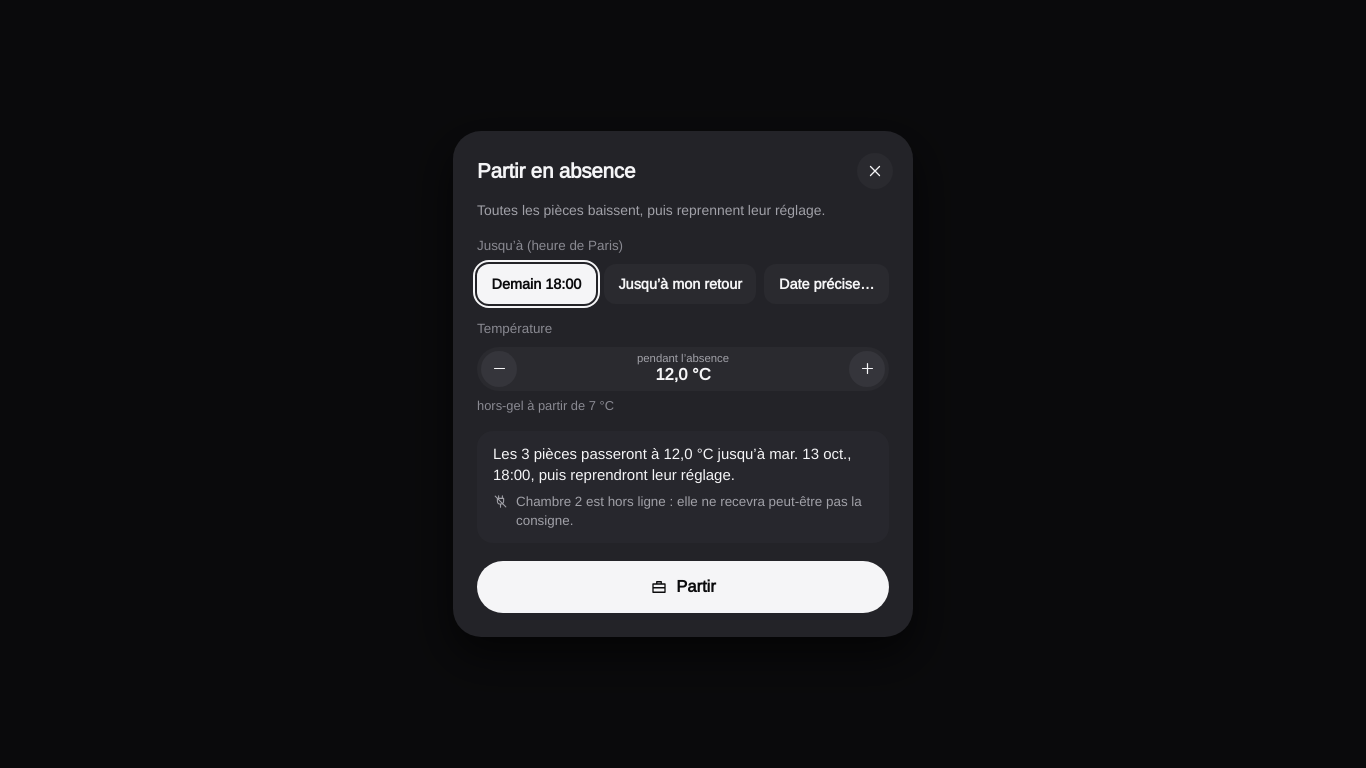
Test: AwaySheet send › a precise date in the past is refused, nothing is sent
The width and height of the screenshot is (1366, 768).
Click the button "Date précise…".
click(827, 284)  # box [764,264,889,304]
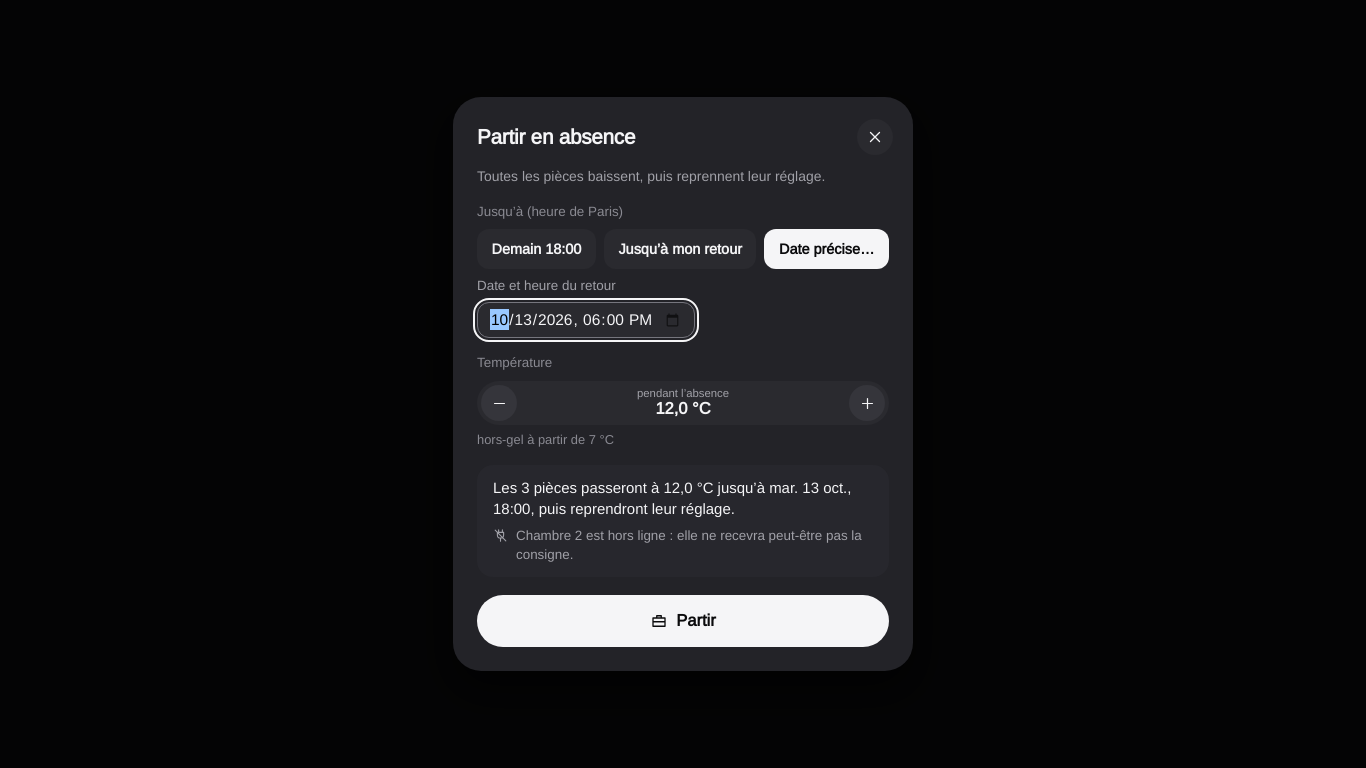
Replace the text in the field labelled "Date et heure du retour" with "2026-10-12T09:00" at x=586, y=320, box [477,302,694,338]
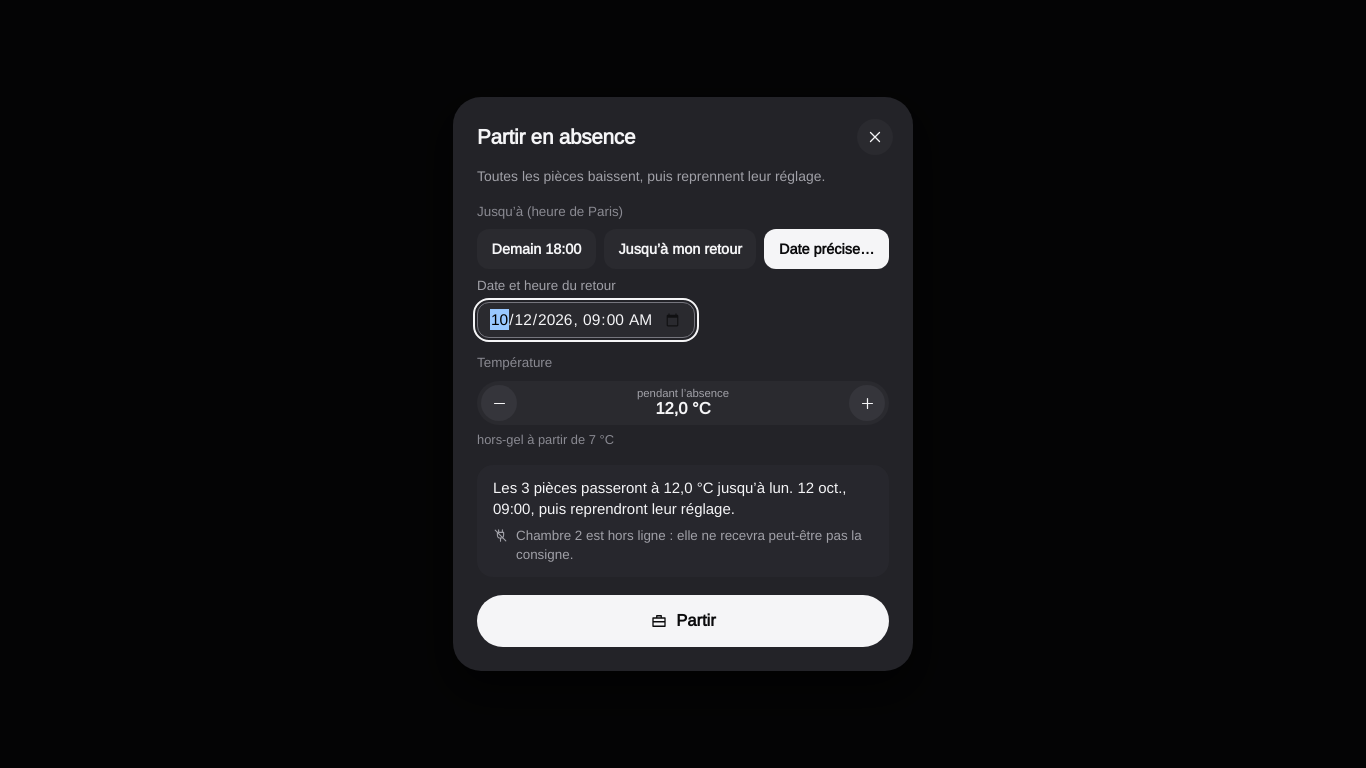
Click the button "Partir".
click(683, 621)  # box [477,595,889,647]
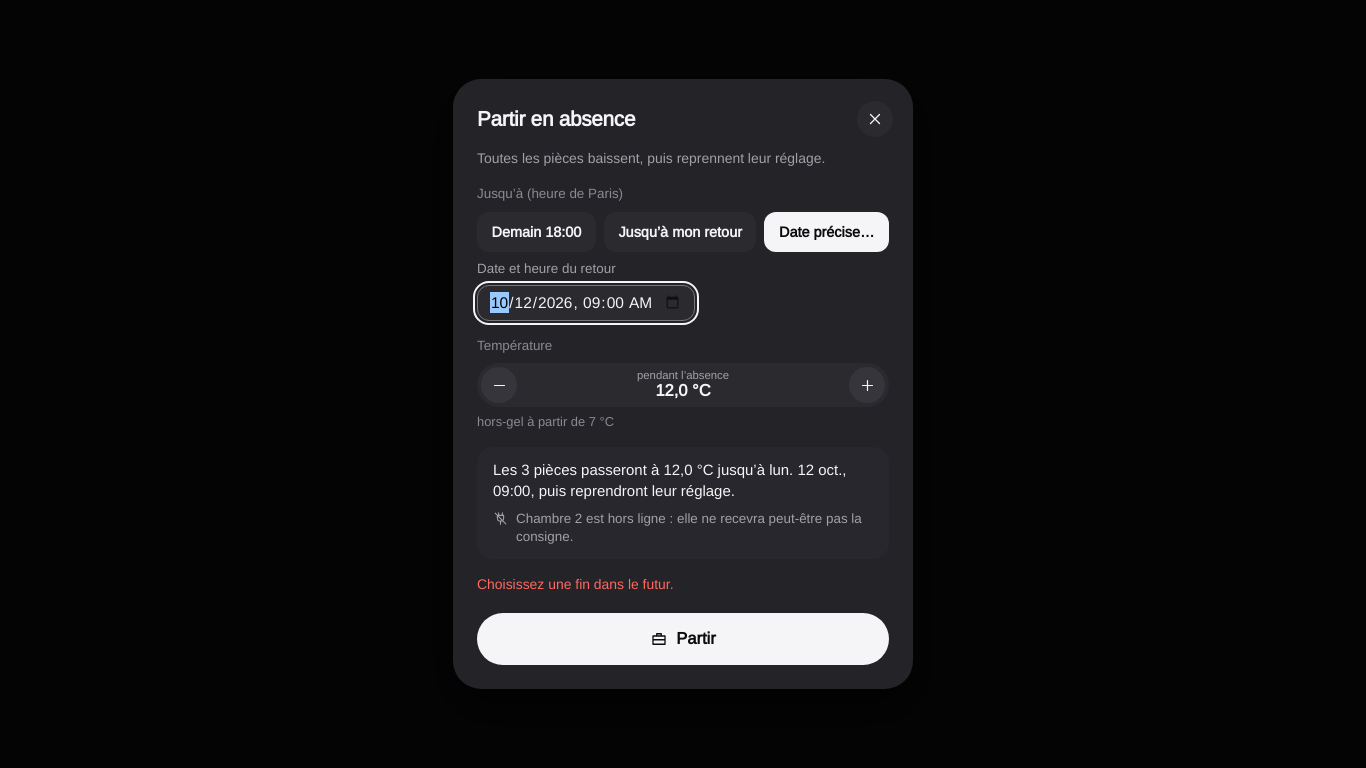
Expected: the message reads "Choisissez une fin dans le futur.", [477,575,674,593]
